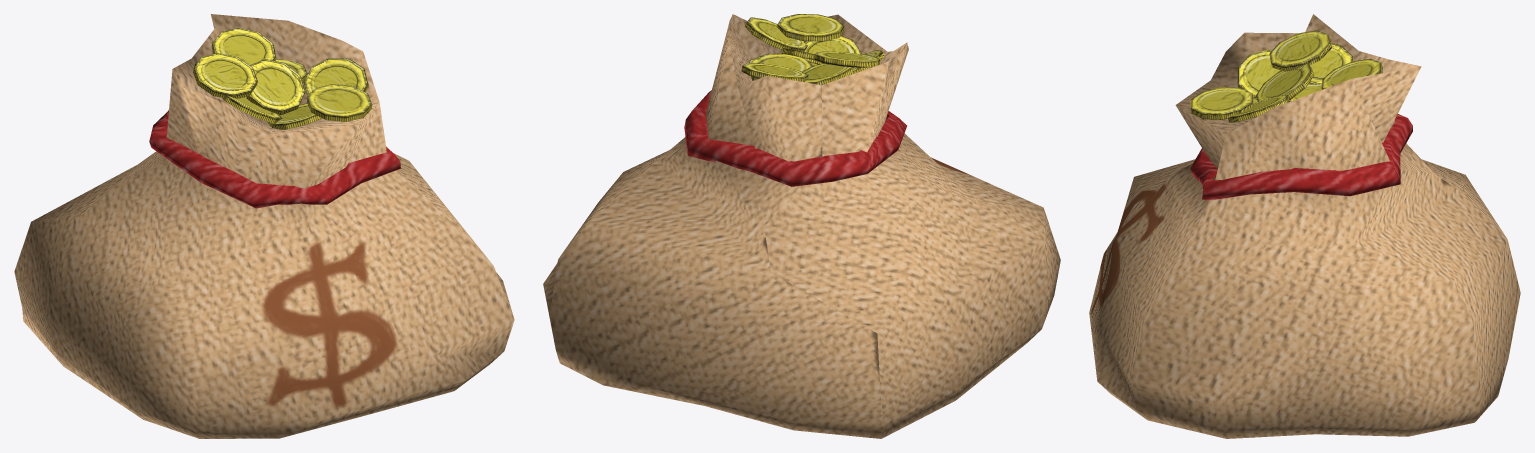
The model's file is md_coin.fbx.
3 renders of one model, left to right at view 1: azimuth 30°, elevation 25°; view 2: azimuth 150°, elevation 25°; view 3: azimuth 270°, elevation 25°, orthographic. The views are drawn at different scales.
Parts seen in each view (by area): view 1: md_coin; view 2: md_coin; view 3: md_coin.
Boxes of the visible parts, x1,y1,x2,y2 form: md_coin: [14, 14, 514, 438]; md_coin: [543, 14, 1060, 438]; md_coin: [1089, 14, 1520, 438].
Bounding box in the file's own units: 39.75 × 29.88 × 39.12.
1 material, 1 textured.
